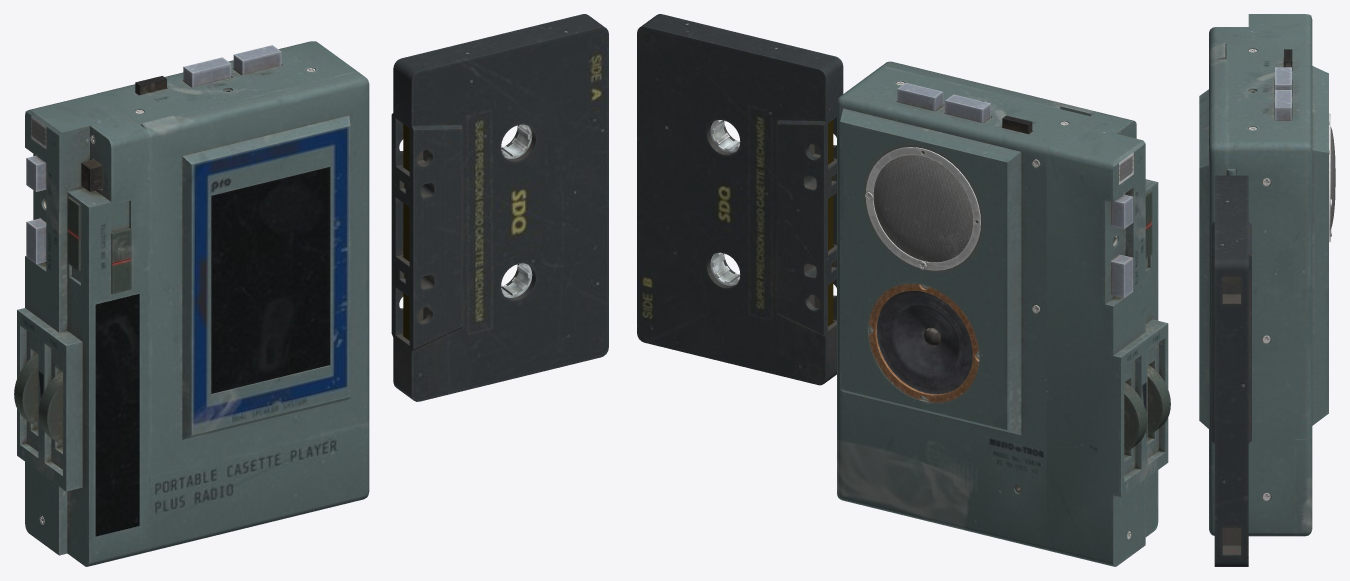
The model's file is portable_cassette_player.glb.
3 renders of one model, left to right at view 1: azimuth 30°, elevation 25°; view 2: azimuth 150°, elevation 25°; view 3: azimuth 270°, elevation 25°, orthographic. The views are drawn at different scales.
Visible parts, largest first — view 1: portable_cassette_player, portable_cassette_player_lid, portable_cassette_player_casette; view 2: portable_cassette_player, portable_cassette_player_casette, portable_cassette_player_lid; view 3: portable_cassette_player, portable_cassette_player_casette, portable_cassette_player_lid.
Boxes of the visible parts, x1,y1,x2,y2 form: portable_cassette_player: [14, 41, 369, 566]; portable_cassette_player_lid: [141, 72, 369, 476]; portable_cassette_player_casette: [391, 14, 608, 401]; portable_cassette_player: [837, 66, 1170, 566]; portable_cassette_player_casette: [637, 14, 843, 385]; portable_cassette_player_lid: [881, 61, 1097, 116]; portable_cassette_player: [1209, 14, 1335, 536]; portable_cassette_player_casette: [1211, 175, 1251, 566]; portable_cassette_player_lid: [1199, 42, 1235, 466].
Bounding box in the file's own units: 0.1723 × 0.1303 × 0.0397.
Materials: 2 (2 with a texture image).
